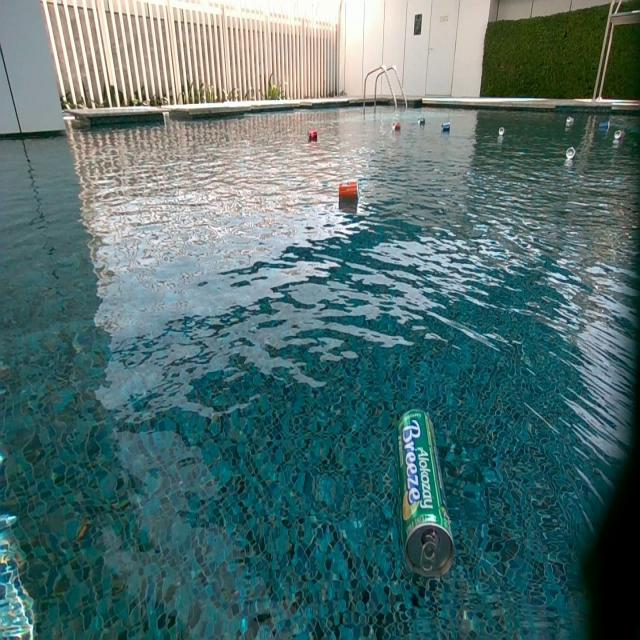Cans: (398, 408, 457, 580), (340, 180, 359, 200), (598, 119, 610, 130), (565, 146, 575, 159), (613, 130, 624, 141), (309, 131, 319, 143), (441, 122, 451, 132), (565, 115, 574, 125), (566, 118, 575, 128), (392, 120, 400, 130), (418, 116, 426, 126), (497, 127, 505, 136)
